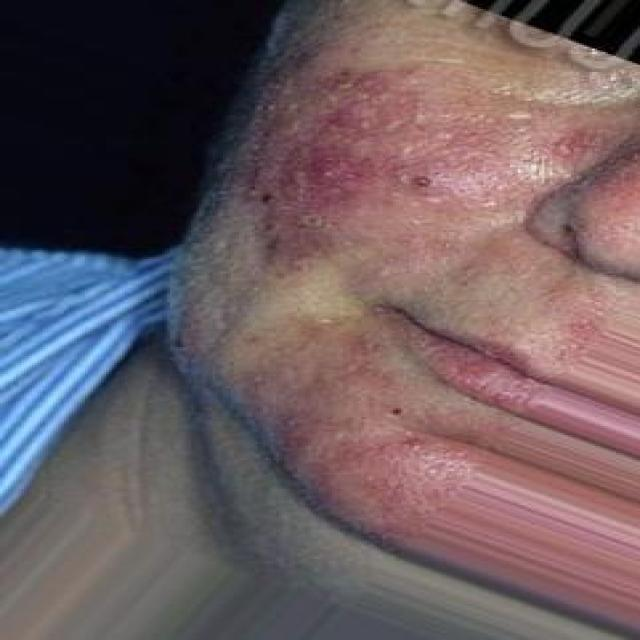Rosacea: (250, 76, 597, 262), (279, 414, 473, 526)
